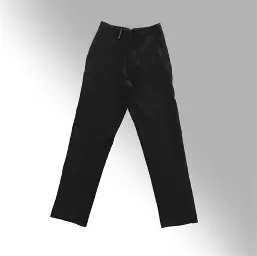kemeja_benar: (46, 23, 206, 224)
